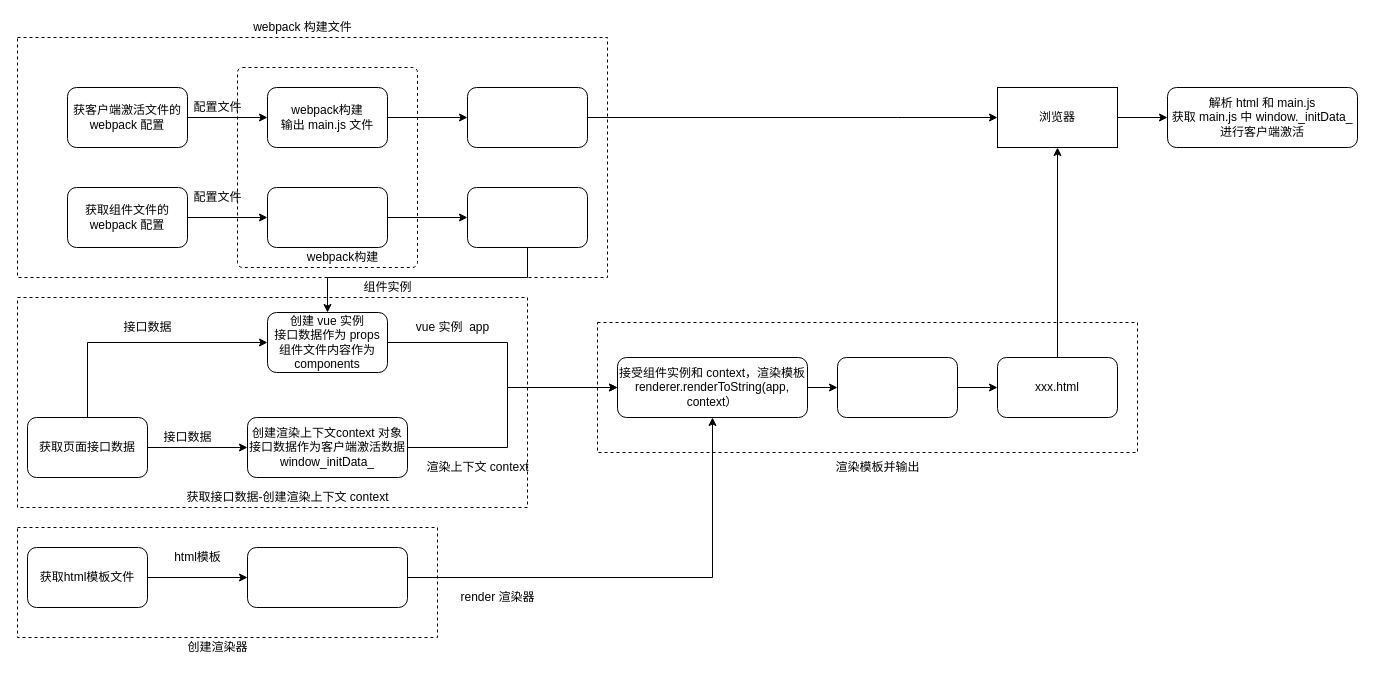
Some shapes in this 1375 by 674 pixel diagram are drawn without their labels. The centre of each missing label's shape, as x and y in pixels:
app.js: the point at 527,217
fs.writeFile() 将模板字符串写入html文件: the point at 897,387
mian.js文件: the point at 527,117
webpack 构建 输出 app.js 文件: the point at 327,217
使用 vue-server-render 和 html 模板创建 render 渲染器: the point at 327,577
